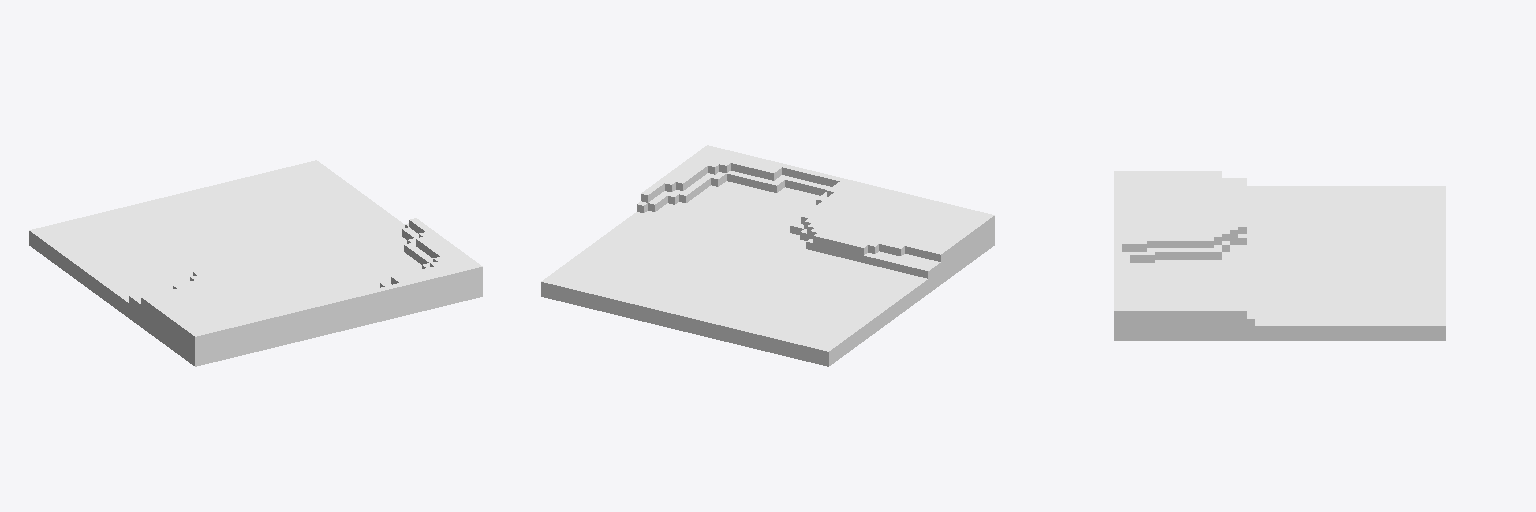
Rendered from river3-4.obj.
3 renders of one model, left to right at view 1: azimuth 30°, elevation 25°; view 2: azimuth 150°, elevation 25°; view 3: azimuth 270°, elevation 25°, orthographic.
Visible parts, largest first — view 1: object 1; view 2: object 1; view 3: object 1.
Boxes of the visible parts, <box> form: object 1: <box>29,160,482,366</box>; object 1: <box>541,145,994,366</box>; object 1: <box>1114,171,1445,340</box>.
Size of the model in its own units: 4 by 0.4 by 4.